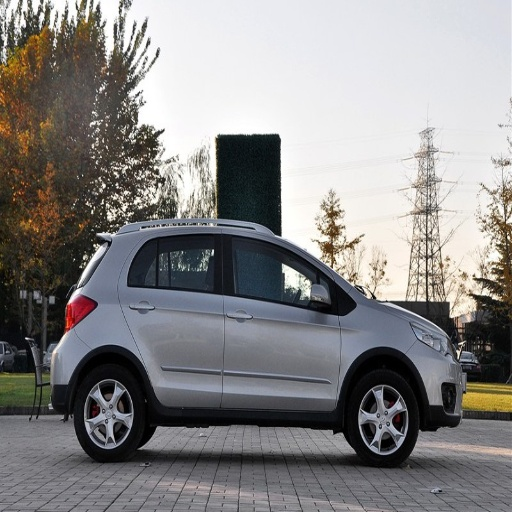back_right_door: (119, 232, 222, 407)
front_right_door: (221, 232, 341, 406)
